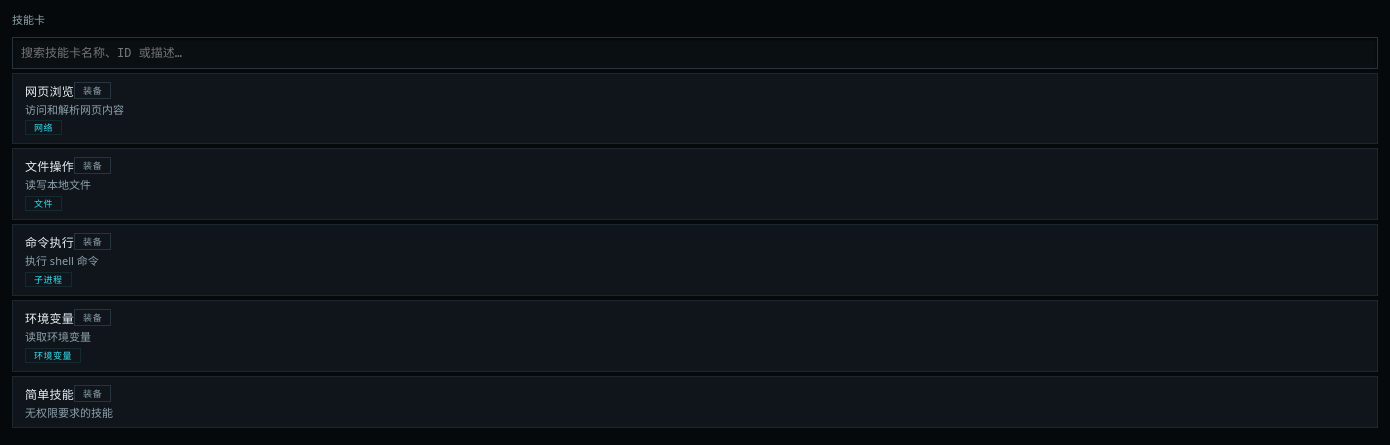
Test case: SkillPicker › 搜索 › 无匹配时显示提示并隐藏列表
Expected: the text "网页浏览" is shown, [25,82,74,98]
Type "不存在的技能xyz" into the field with placeholder "搜索技能卡名称、ID 或描述…" at coordinates (695, 52), box [12,36,1378,68]
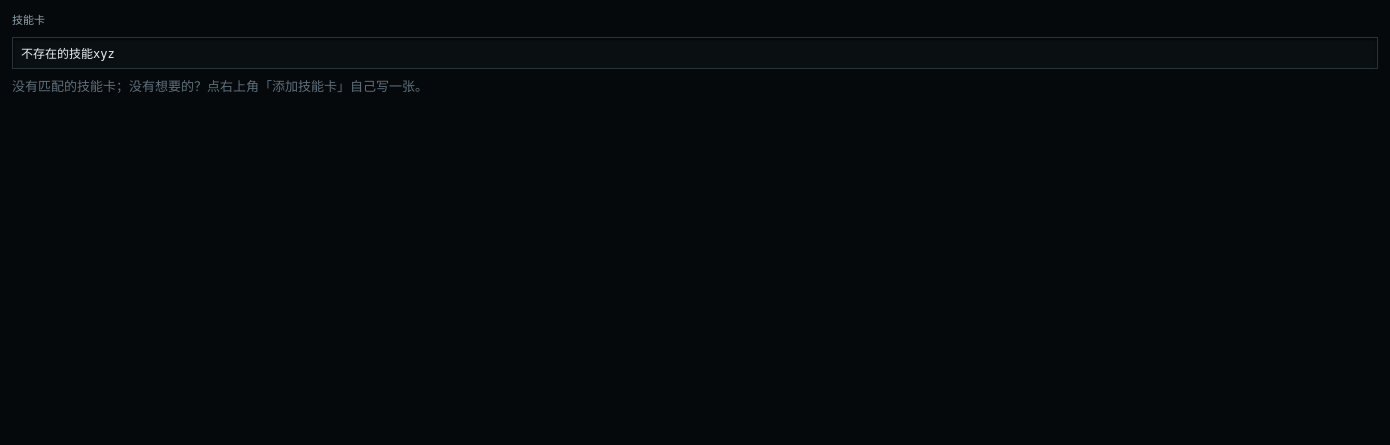
Expected: the text "没有匹配的技能卡；没有想要的？点右上角「添加技能卡」自己写一张。" is shown, [12,76,428,94]
Expected: the element with class "skill-list" is gone
